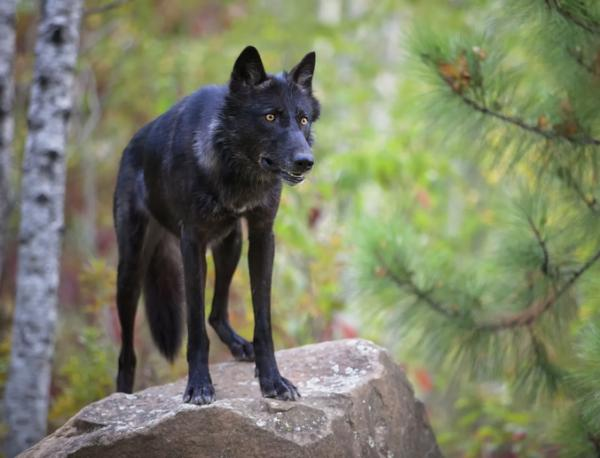Lobo: (116, 30, 331, 415)
